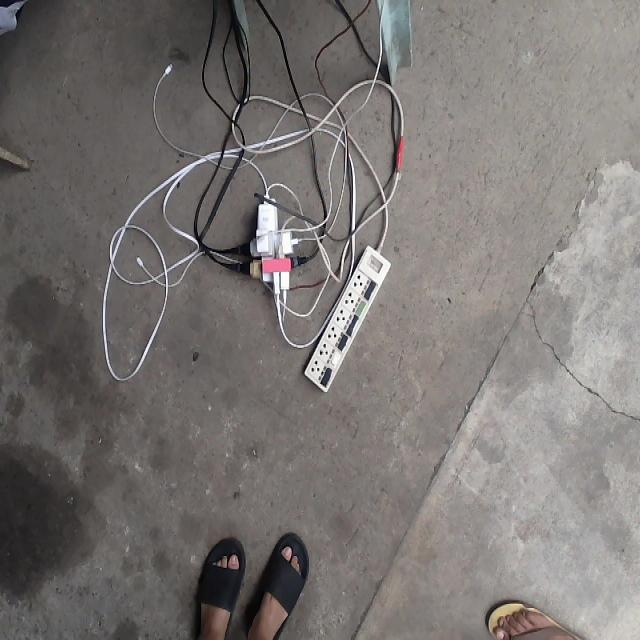-: (236, 193, 303, 300)
